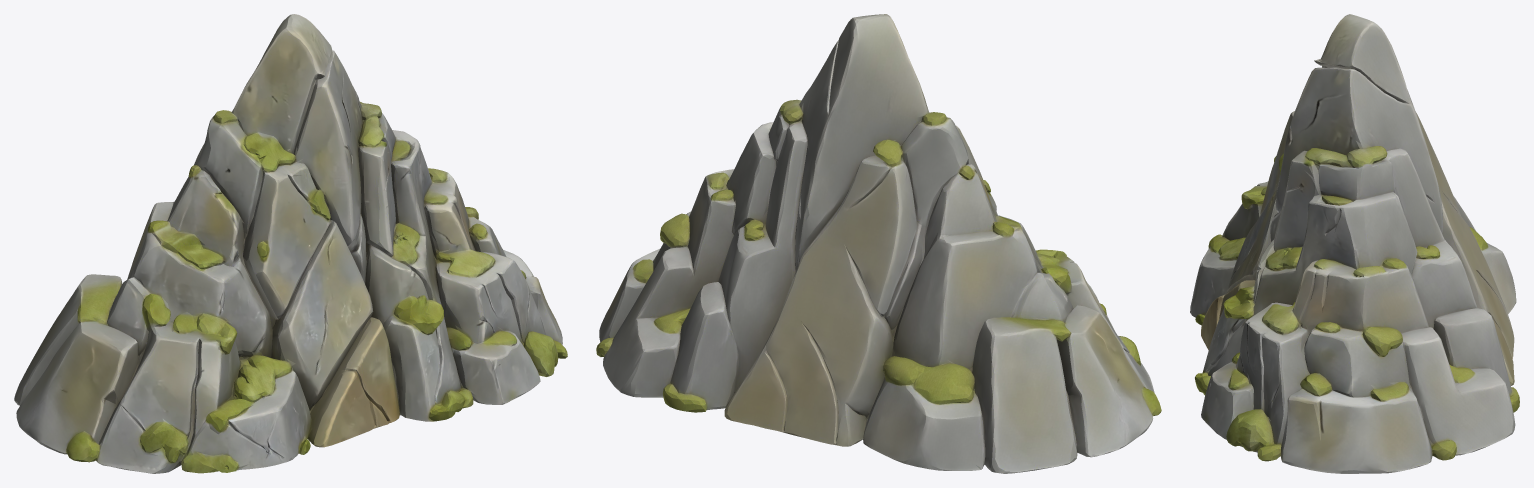
3 renders of one model, left to right at view 1: azimuth 30°, elevation 25°; view 2: azimuth 150°, elevation 25°; view 3: azimuth 270°, elevation 25°, orthographic. The views are drawn at different scales.
Visible parts, largest first — view 1: Mesh; view 2: Mesh; view 3: Mesh.
Part boxes in pixels (box(x1,y1,x2,y2)): Mesh: box(14, 14, 567, 473); Mesh: box(596, 14, 1161, 473); Mesh: box(1190, 14, 1519, 473).
Bounding box in the file's own units: 1.89 × 1.25 × 1.1.
Materials: 1 (1 with a texture image).
